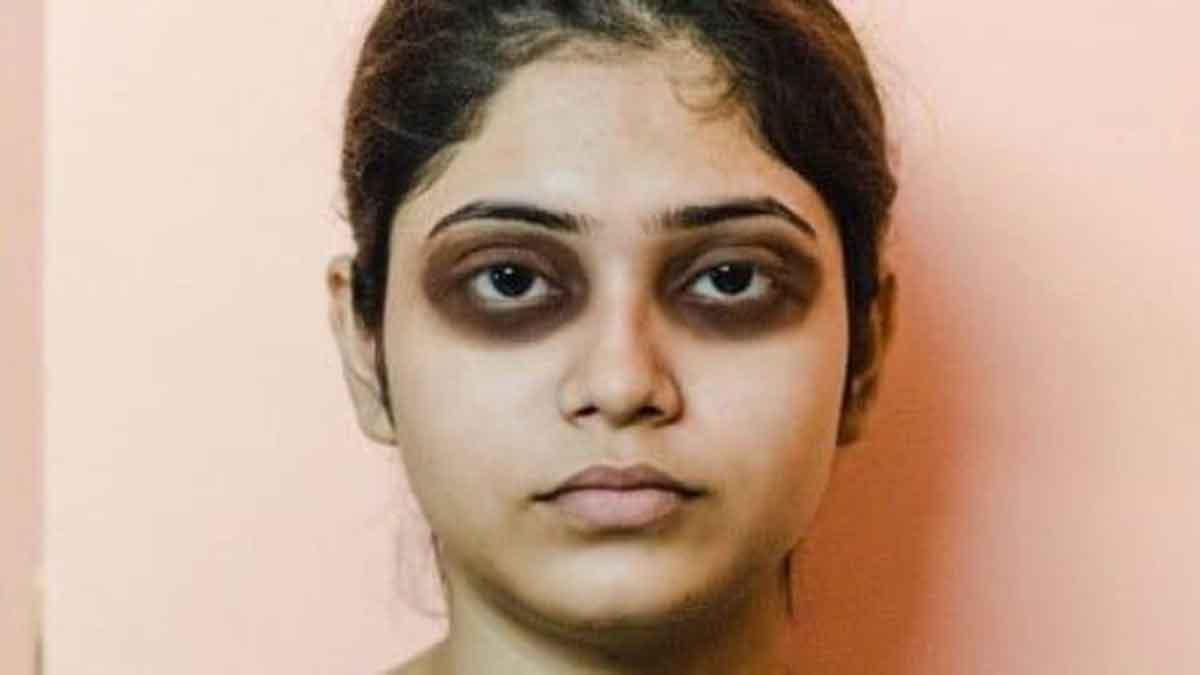Eyebags: (419, 227, 594, 349), (649, 231, 824, 348)
